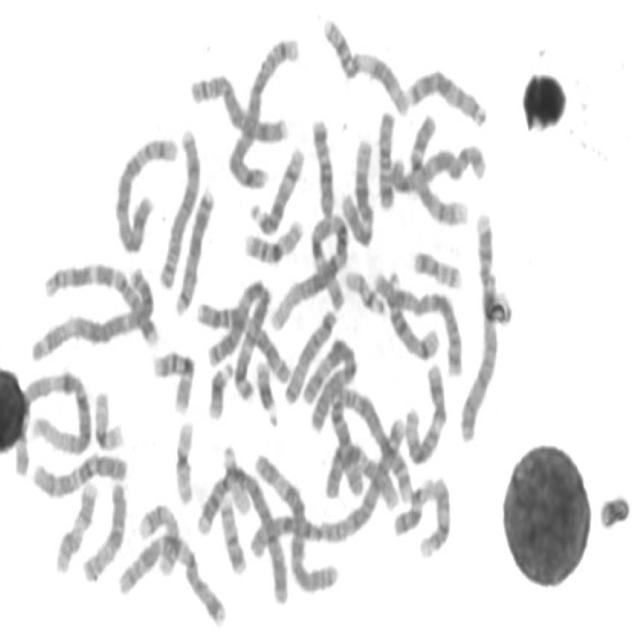A1: (268, 205, 352, 332), (9, 362, 94, 467)
A2: (242, 417, 411, 566), (326, 377, 418, 508)
A3: (28, 258, 157, 365), (208, 278, 274, 406)
B4: (192, 458, 291, 608), (455, 206, 501, 444)
B5: (224, 29, 301, 191), (110, 129, 180, 255)
C10: (321, 434, 402, 512), (28, 445, 130, 500)
C11: (318, 8, 412, 118), (195, 303, 288, 384)
C12: (401, 355, 448, 467), (337, 129, 377, 248)
C6: (250, 446, 341, 595), (301, 332, 361, 434)
C7: (114, 525, 228, 629), (38, 255, 159, 348)
C8: (186, 67, 290, 146), (155, 121, 203, 291)
C9: (407, 108, 471, 228), (416, 470, 454, 561)
D13: (170, 180, 217, 318), (404, 61, 489, 128)
D14: (381, 263, 443, 363), (248, 140, 306, 237)
D15: (279, 304, 339, 407), (77, 474, 129, 585)
E16: (240, 210, 306, 266), (149, 342, 196, 415)
E17: (51, 474, 100, 576), (135, 496, 182, 576)
E18: (308, 110, 336, 219), (373, 103, 398, 212)
F19: (170, 413, 197, 506), (90, 384, 126, 452)
F20: (216, 490, 249, 576), (409, 243, 464, 291)
G21: (251, 353, 281, 429), (204, 353, 236, 422)
G22: (218, 438, 253, 518), (341, 262, 388, 317)
X: (375, 264, 465, 378), (389, 145, 492, 197)
